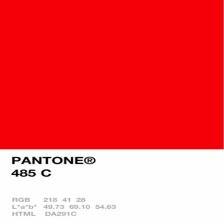red: (0, 0, 223, 149)
